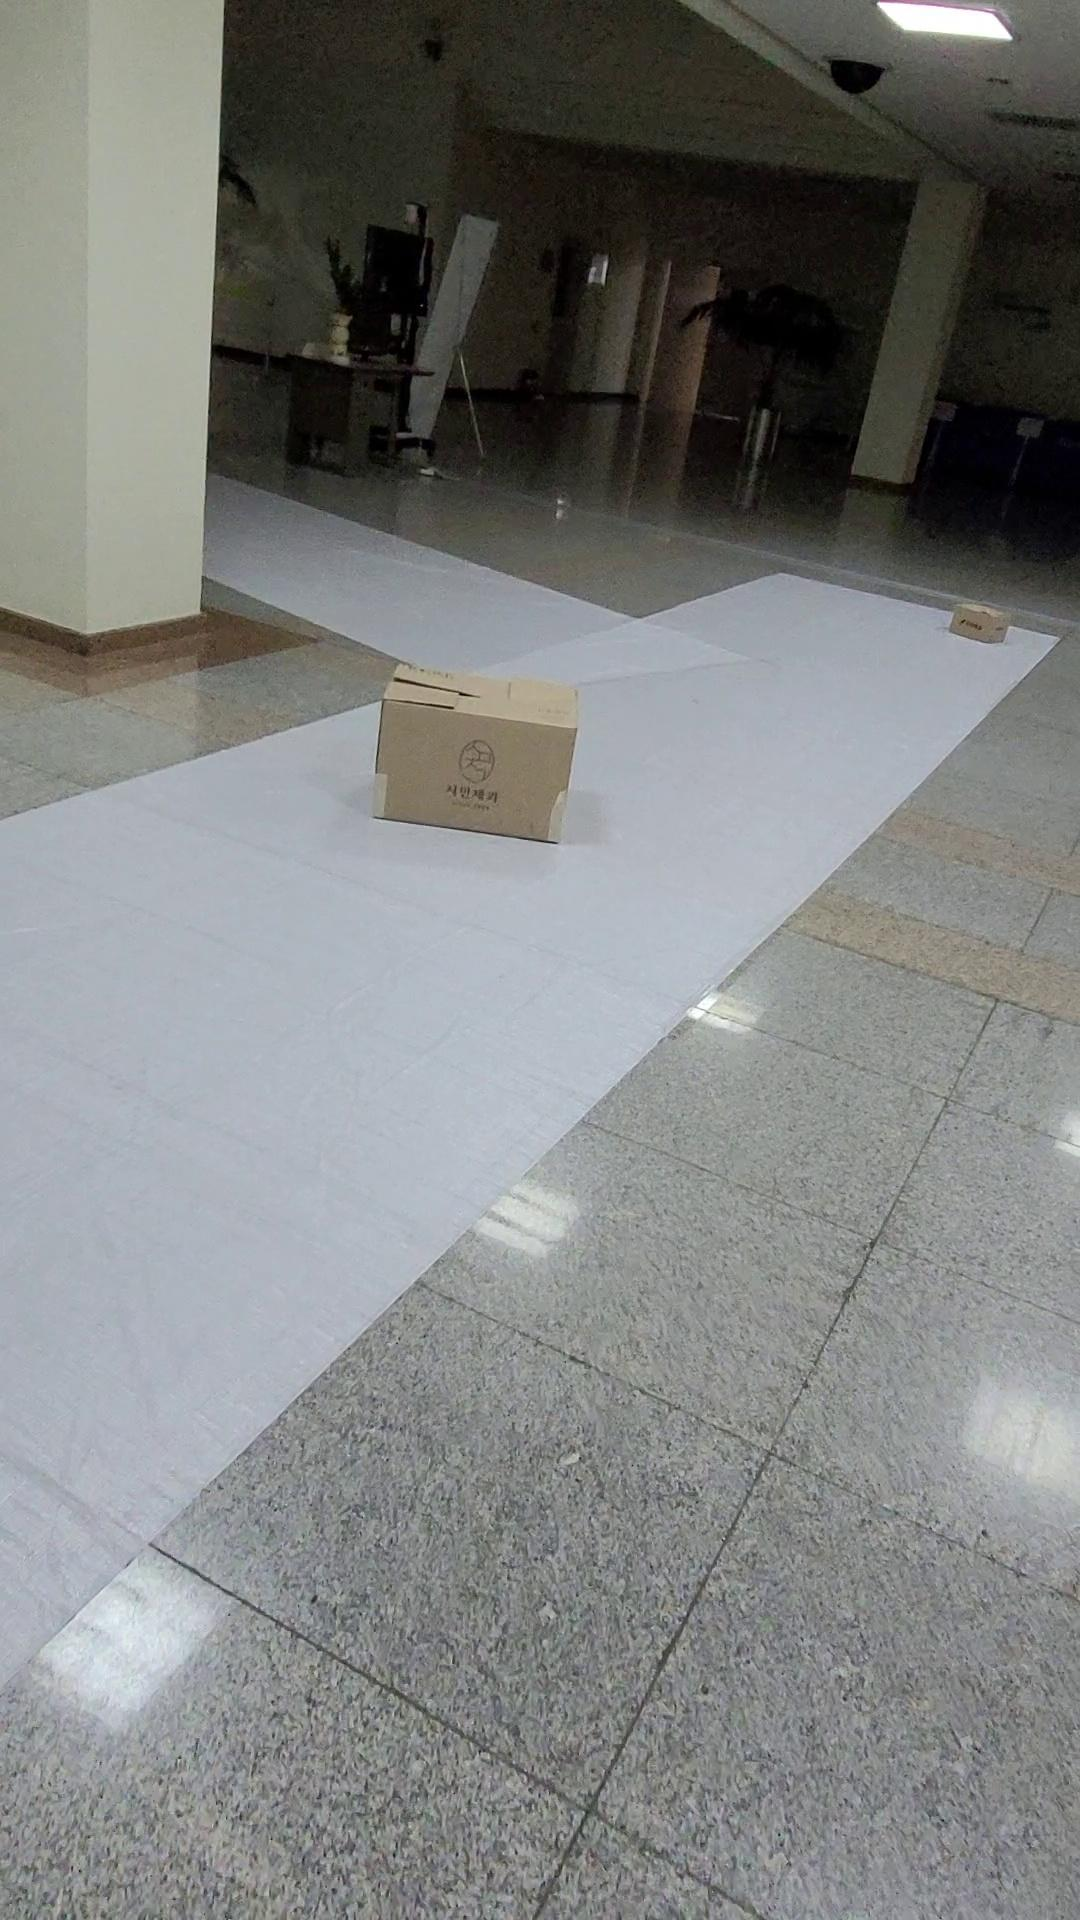Box: (367, 645, 595, 857), (942, 585, 1025, 659)
